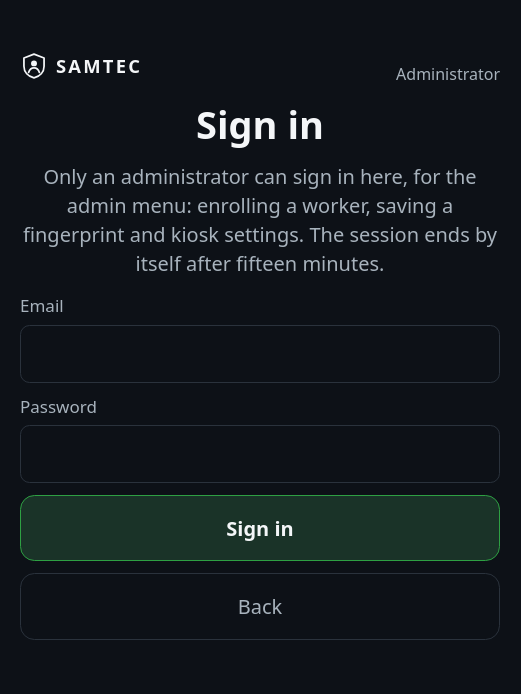
AdminSignInScreen › shows the server’s refusal, which never says whether the email exists
Type "admin@samtec.example" into the field labelled "Email" at coordinates (260, 354), box [20,325,500,383]
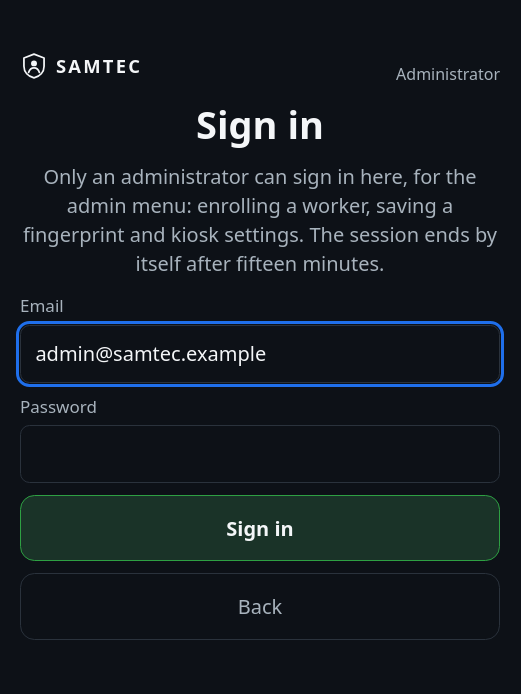
Type "demo-password" into the password field labelled "Password" at coordinates (260, 454), box [20,425,500,483]
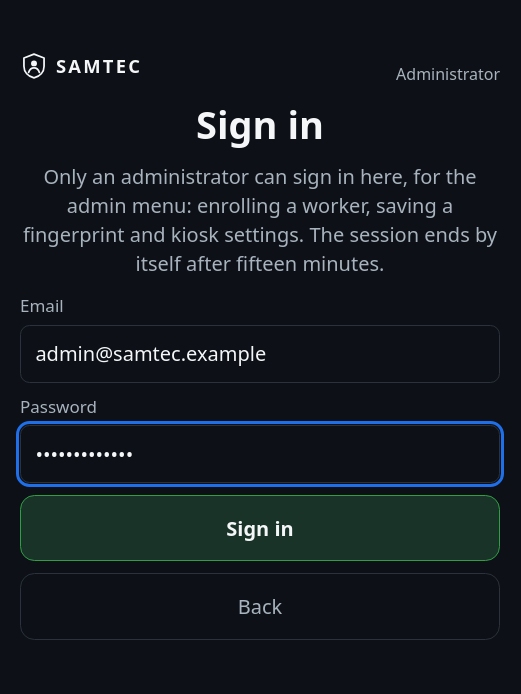
Click the button "Sign in" at coordinates (260, 528), box [20,495,500,561]
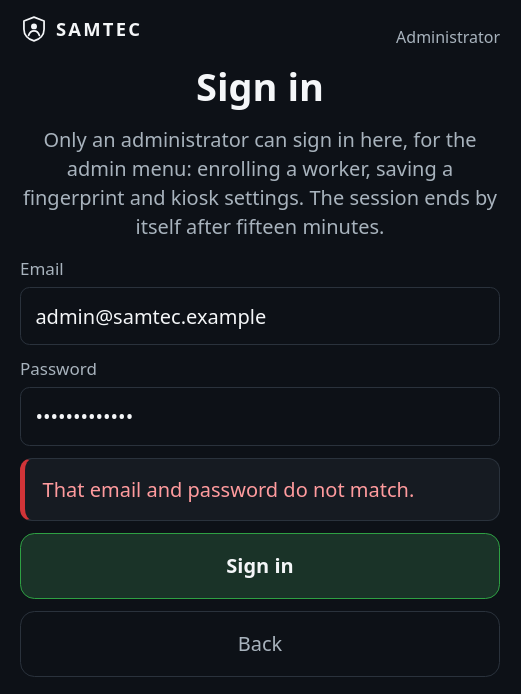
Result: the message shows "do not match" at [43,476,414,503]
